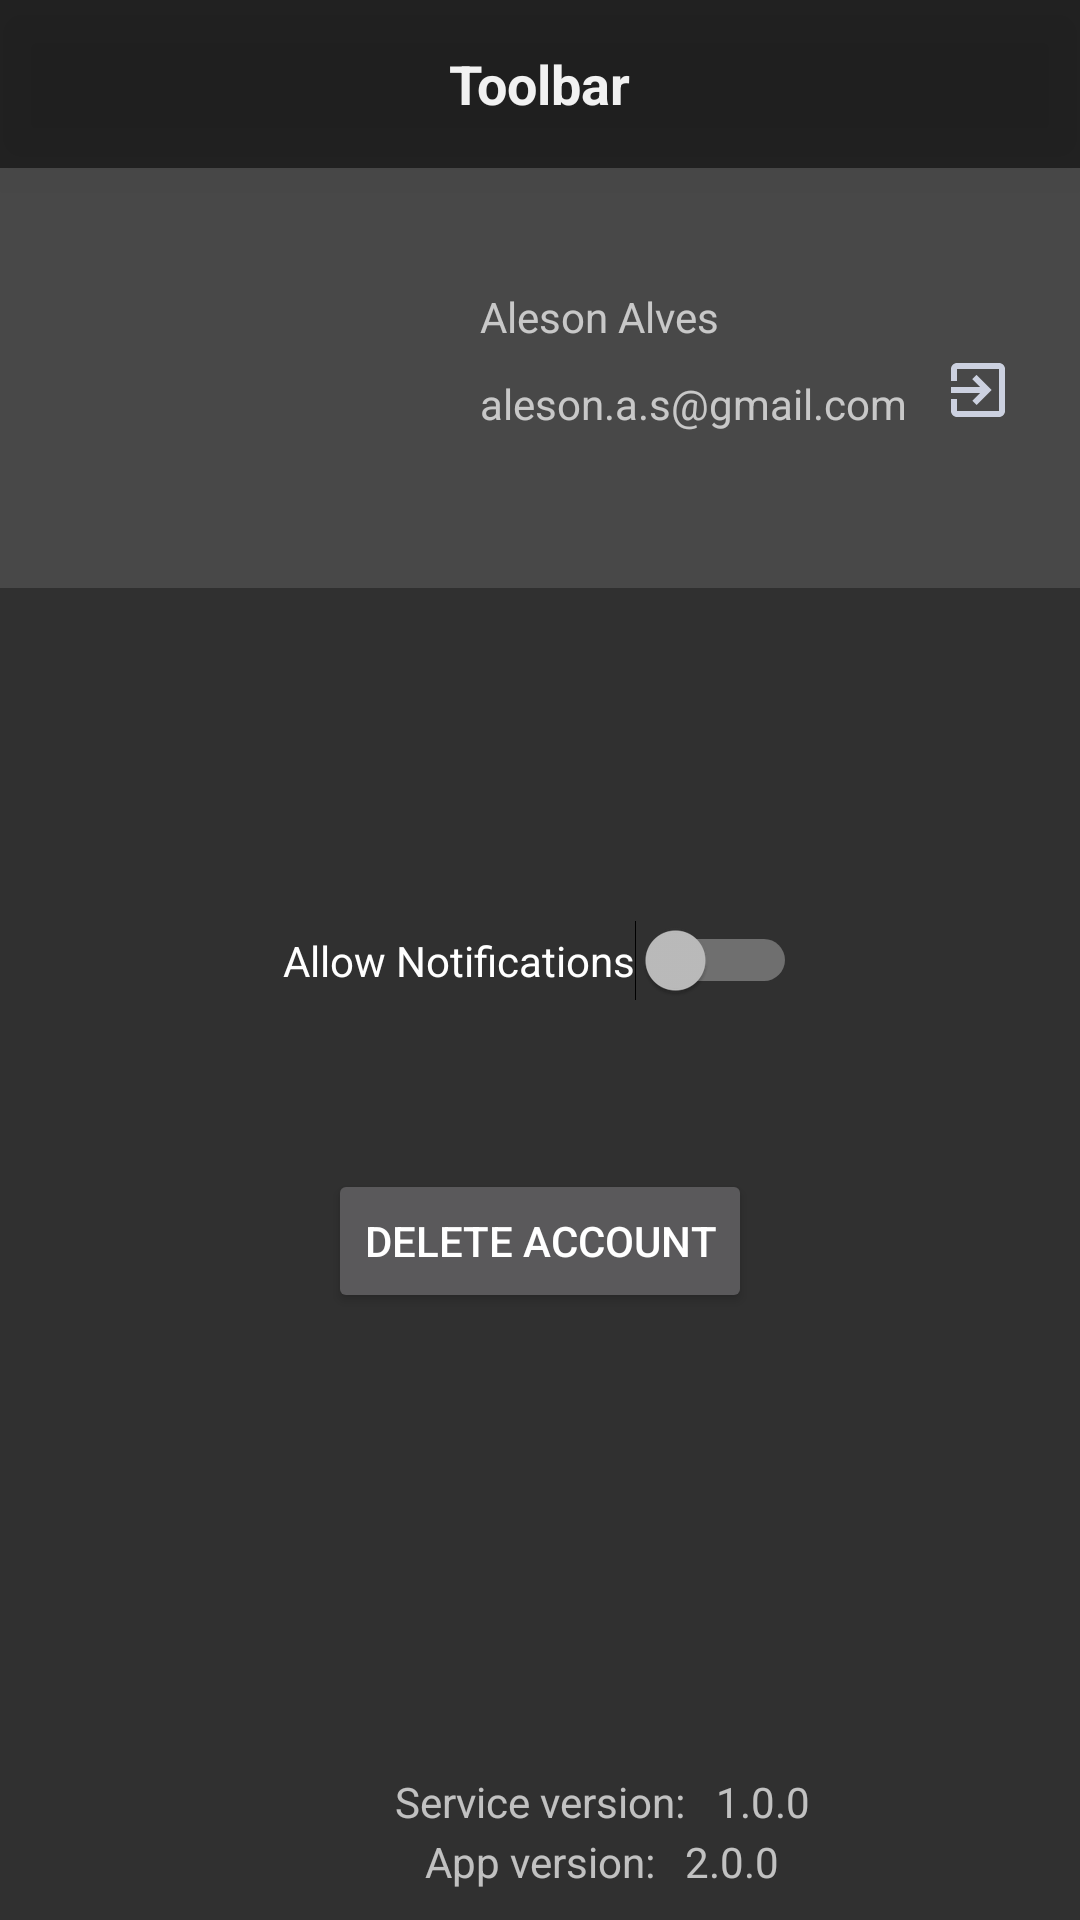

Icon bounding boxes for this 1080px×1920px phone screenshot, format detection(x1, y1, x2, y2):
exit to app: detection(951, 363, 1005, 417)
